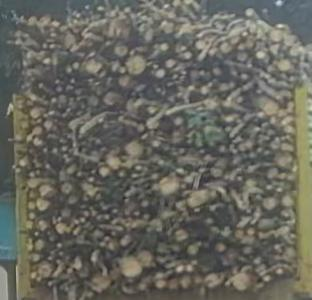medium: (120, 258, 142, 278), (189, 189, 210, 208), (91, 275, 111, 291), (128, 57, 144, 75), (159, 177, 177, 193), (126, 99, 146, 112), (233, 275, 248, 292), (85, 59, 102, 73), (138, 252, 152, 268), (103, 93, 119, 106), (38, 264, 52, 278), (206, 275, 220, 289), (127, 143, 141, 156), (106, 157, 119, 170), (284, 247, 295, 262), (38, 15, 51, 27), (277, 155, 289, 168), (265, 198, 277, 211), (37, 199, 49, 211), (264, 104, 277, 115), (60, 182, 71, 195), (119, 75, 130, 87), (98, 167, 110, 178), (281, 196, 293, 207), (211, 167, 222, 179), (39, 186, 52, 196), (72, 257, 82, 270), (220, 42, 231, 53), (272, 30, 282, 42), (27, 179, 39, 189), (270, 44, 280, 55), (88, 96, 98, 107), (145, 29, 153, 42), (30, 108, 40, 118), (55, 224, 65, 234), (279, 227, 289, 237), (267, 169, 277, 179), (282, 144, 294, 152), (61, 209, 71, 218), (279, 62, 290, 70), (237, 53, 247, 61), (231, 36, 240, 44), (68, 196, 77, 204), (183, 177, 193, 184), (245, 9, 253, 17), (256, 51, 264, 59), (201, 86, 209, 94), (34, 127, 42, 135), (44, 122, 52, 129), (68, 293, 76, 300), (52, 56, 58, 65)
small: (114, 45, 128, 56), (147, 118, 159, 130), (241, 236, 257, 245), (237, 218, 250, 229), (187, 245, 198, 257), (174, 230, 186, 241), (31, 138, 43, 148), (120, 237, 130, 247), (155, 70, 166, 79), (156, 281, 167, 290), (169, 280, 178, 291), (215, 244, 226, 253), (70, 120, 79, 130), (66, 166, 76, 175), (166, 60, 177, 68), (112, 62, 120, 73), (284, 126, 294, 134), (39, 221, 47, 231), (59, 171, 67, 181), (182, 279, 190, 289), (275, 23, 288, 29), (196, 41, 204, 50), (286, 37, 294, 46), (225, 116, 234, 124), (235, 230, 243, 239), (160, 212, 169, 220), (36, 241, 43, 251), (75, 89, 86, 95), (29, 18, 37, 26), (99, 70, 107, 78), (139, 284, 147, 292), (243, 247, 251, 255), (247, 228, 255, 236), (269, 116, 276, 125), (270, 143, 279, 150), (65, 85, 74, 92), (149, 107, 158, 114), (138, 123, 145, 132), (175, 118, 184, 125), (29, 192, 38, 199), (28, 202, 35, 211), (224, 228, 231, 237), (210, 227, 219, 234), (179, 45, 187, 52), (246, 41, 254, 48), (268, 130, 276, 137), (235, 97, 243, 104), (238, 144, 246, 151), (20, 122, 28, 129), (141, 135, 149, 142), (153, 140, 160, 148), (28, 213, 36, 220), (287, 103, 293, 112), (26, 221, 32, 230), (155, 274, 164, 280), (199, 289, 205, 298), (263, 276, 272, 282), (248, 58, 253, 68), (47, 134, 57, 139), (214, 69, 221, 76), (241, 74, 248, 81), (258, 112, 265, 119), (188, 85, 195, 92), (59, 96, 66, 103), (247, 166, 254, 173), (276, 269, 283, 276), (254, 258, 261, 265), (90, 256, 97, 263), (162, 43, 168, 51), (197, 55, 205, 61), (279, 111, 287, 117), (245, 142, 253, 148), (176, 168, 184, 174), (279, 173, 287, 179), (205, 219, 213, 225), (65, 66, 71, 73), (165, 27, 172, 33), (291, 50, 298, 56), (238, 44, 245, 50), (168, 96, 175, 102), (56, 86, 63, 92), (48, 91, 55, 97), (51, 97, 57, 104), (67, 268, 73, 275), (194, 279, 201, 285), (118, 171, 125, 177), (126, 163, 133, 169), (158, 159, 164, 166), (256, 282, 263, 288), (258, 233, 264, 240), (142, 201, 148, 208), (83, 211, 89, 218), (65, 227, 71, 234), (151, 174, 159, 179), (287, 176, 295, 181), (275, 188, 283, 193), (186, 53, 192, 59), (44, 59, 50, 65), (73, 64, 79, 70), (50, 33, 56, 39), (60, 26, 66, 32), (231, 71, 237, 77), (260, 72, 266, 78), (275, 95, 281, 101), (285, 117, 291, 123), (244, 115, 250, 121), (219, 147, 225, 153), (34, 69, 40, 75), (103, 124, 109, 130), (30, 95, 36, 101), (76, 171, 82, 177), (88, 177, 94, 183), (53, 272, 59, 278), (177, 268, 183, 274), (259, 265, 265, 271), (156, 227, 162, 233), (143, 215, 149, 221), (108, 244, 114, 250), (52, 22, 59, 27), (249, 28, 256, 33), (268, 79, 275, 84), (223, 102, 230, 107), (249, 153, 256, 158), (229, 145, 234, 152), (196, 143, 203, 148), (178, 76, 185, 81), (26, 101, 33, 106), (27, 245, 32, 252), (187, 266, 192, 273), (175, 81, 183, 85), (131, 174, 139, 178), (105, 41, 111, 46), (97, 6, 103, 11), (124, 7, 130, 12), (85, 34, 91, 39), (242, 86, 248, 91), (199, 70, 204, 76), (281, 120, 287, 125), (289, 138, 294, 144), (274, 138, 280, 143), (263, 136, 269, 141), (262, 123, 268, 128), (229, 133, 234, 139), (225, 127, 231, 132), (208, 142, 214, 147), (183, 94, 188, 100), (167, 82, 173, 87), (139, 85, 145, 90), (120, 68, 126, 73), (70, 78, 75, 84), (38, 84, 44, 89), (98, 119, 104, 124), (20, 161, 25, 167), (65, 158, 70, 164), (33, 256, 39, 261), (31, 273, 36, 279), (56, 244, 62, 249), (73, 150, 78, 156), (93, 158, 99, 163), (52, 288, 57, 294), (191, 261, 197, 266), (229, 176, 234, 182), (236, 168, 242, 173), (292, 167, 297, 173), (265, 185, 271, 190), (292, 191, 297, 197), (238, 257, 244, 262), (73, 230, 78, 236), (161, 22, 168, 26), (35, 65, 42, 69), (49, 111, 56, 115), (98, 163, 105, 167), (80, 274, 87, 278), (194, 209, 201, 213), (207, 82, 212, 87), (242, 154, 247, 159), (232, 150, 237, 155), (179, 87, 184, 92), (173, 74, 178, 79), (174, 66, 179, 71), (160, 91, 165, 96), (156, 88, 161, 93), (31, 77, 36, 82), (26, 82, 31, 87), (23, 61, 28, 66), (27, 53, 32, 58), (43, 114, 48, 119), (80, 128, 85, 133), (43, 148, 48, 153), (45, 164, 50, 169), (91, 170, 96, 175), (80, 153, 85, 158), (81, 141, 86, 146), (87, 143, 92, 148), (96, 139, 101, 144), (167, 271, 172, 276), (232, 160, 237, 165), (210, 206, 215, 211), (274, 245, 279, 250), (275, 256, 280, 261), (146, 228, 151, 233), (104, 215, 109, 220), (80, 218, 85, 223), (92, 212, 97, 217), (96, 216, 101, 221), (100, 243, 105, 248), (111, 232, 116, 237), (163, 4, 169, 8), (256, 90, 262, 94), (261, 129, 267, 133), (236, 138, 242, 142), (199, 150, 205, 154), (30, 172, 34, 178), (48, 282, 52, 288), (135, 166, 141, 170), (272, 182, 278, 186), (290, 234, 296, 238), (259, 272, 265, 276), (112, 210, 118, 214), (105, 237, 109, 243), (153, 66, 158, 70), (55, 79, 59, 84), (196, 34, 201, 38), (286, 136, 291, 140), (281, 137, 286, 141), (265, 151, 270, 155), (258, 148, 262, 153), (255, 128, 260, 132), (232, 140, 237, 144), (187, 140, 192, 144), (178, 93, 182, 98), (27, 71, 31, 76), (40, 51, 45, 55), (63, 113, 67, 118), (66, 108, 70, 113), (69, 102, 74, 106), (119, 117, 123, 122), (16, 168, 20, 173), (36, 170, 40, 175), (35, 164, 40, 168), (52, 149, 57, 153), (67, 135, 72, 139), (43, 101, 48, 105), (47, 257, 52, 261), (59, 252, 64, 256), (68, 149, 73, 153), (78, 135, 83, 139), (90, 137, 95, 141), (181, 185, 186, 189), (224, 176, 229, 180), (237, 177, 242, 181), (279, 183, 284, 187), (284, 214, 289, 218), (125, 211, 130, 215), (74, 221, 79, 225), (94, 82, 100, 85), (50, 45, 54, 49), (43, 44, 47, 48), (76, 14, 80, 18), (243, 33, 247, 37), (259, 135, 263, 139), (227, 97, 231, 101), (187, 134, 191, 138), (185, 100, 189, 104), (182, 71, 186, 75), (21, 86, 25, 90), (27, 61, 31, 65), (37, 56, 41, 60), (57, 105, 61, 109), (69, 98, 73, 102), (33, 160, 37, 164), (29, 150, 33, 154), (63, 140, 67, 144), (37, 278, 41, 282), (50, 252, 54, 256), (52, 221, 56, 225), (73, 144, 77, 148), (83, 159, 87, 163), (64, 288, 68, 292), (60, 286, 64, 290), (278, 249, 282, 253), (135, 212, 139, 216), (85, 6, 90, 9), (89, 79, 94, 82), (45, 67, 50, 70), (11, 166, 16, 169), (62, 148, 67, 151), (63, 155, 68, 158), (90, 53, 94, 56), (207, 72, 210, 76), (259, 140, 263, 143), (237, 120, 241, 123), (153, 85, 157, 88), (136, 88, 140, 91), (22, 71, 25, 75), (27, 166, 30, 170), (53, 127, 56, 131), (42, 95, 46, 98), (50, 238, 53, 242), (47, 233, 50, 237), (58, 218, 61, 222), (256, 269, 259, 273), (263, 242, 267, 245), (60, 139, 63, 142), (39, 99, 42, 102), (83, 149, 86, 152), (144, 168, 147, 171), (36, 233, 37, 237)
